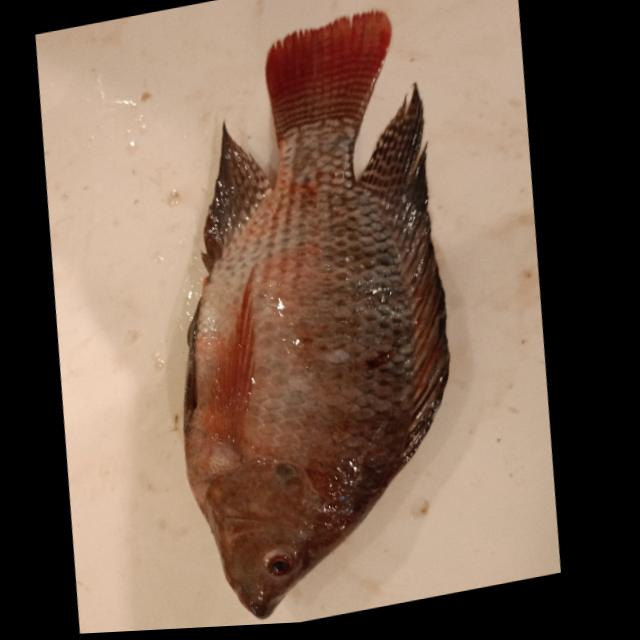Tilapia: (115, 0, 506, 632)
